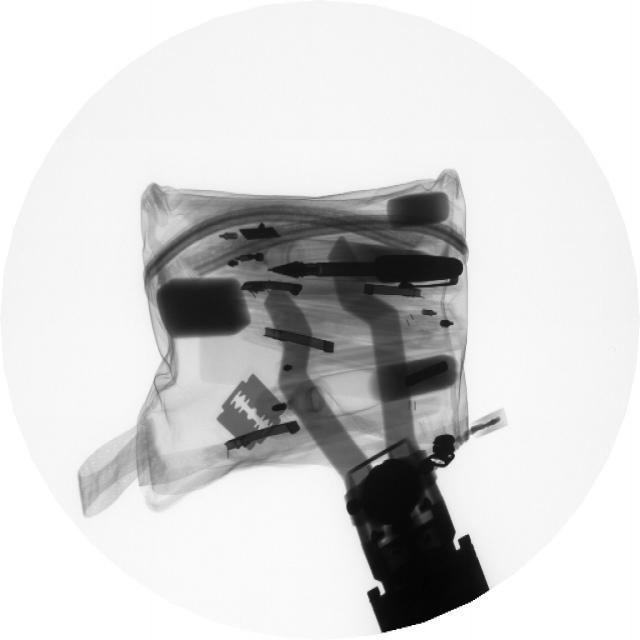BLADE: (214, 372, 301, 455)
